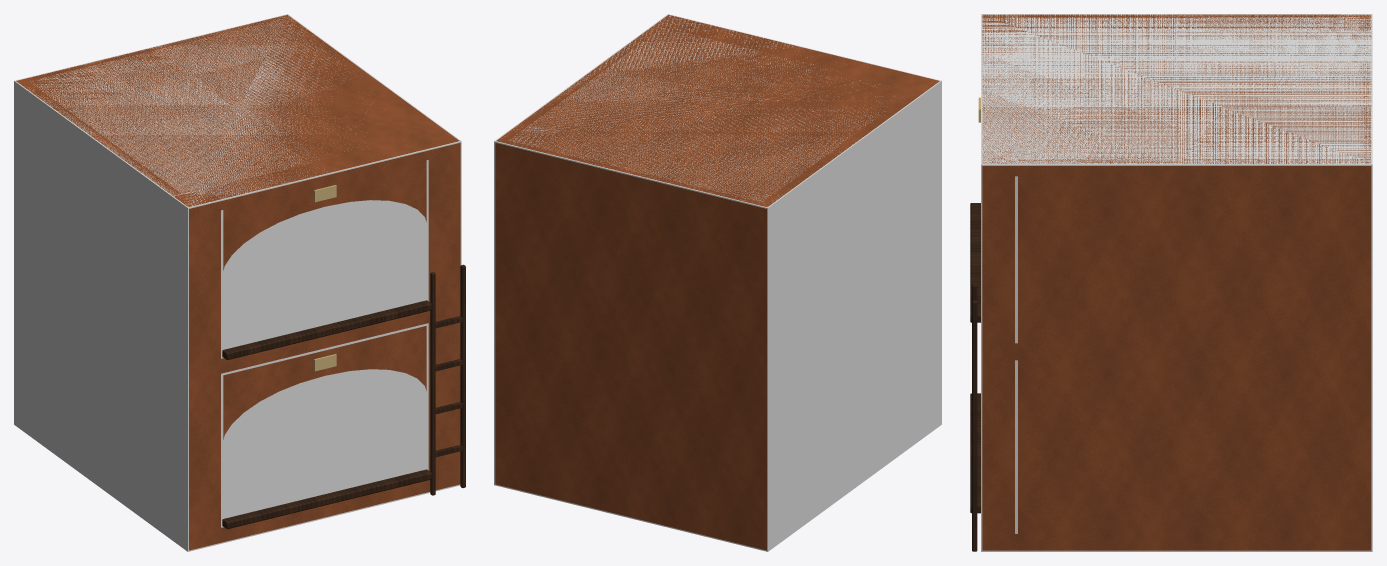
File: cave_bank.glb
3 views of the same model, side by side, from view 1: azimuth 30°, elevation 25°; view 2: azimuth 150°, elevation 25°; view 3: azimuth 270°, elevation 25° (orthographic). The views are drawn at different scales.
Parts seen in each view (by area): view 1: COL_Block, CaveBank; view 2: CaveBank, COL_Block; view 3: CaveBank, COL_Block.
Part boxes in pixels (box(x1,y1,x2,y2)): COL_Block: box(14, 14, 461, 551); CaveBank: box(16, 14, 465, 550); CaveBank: box(495, 14, 939, 550); COL_Block: box(494, 14, 941, 551); CaveBank: box(970, 14, 1371, 551); COL_Block: box(981, 14, 1372, 551).
Size of the model in its own units: 2.01 by 2.4 by 2.26.
5 materials, 3 textured.
